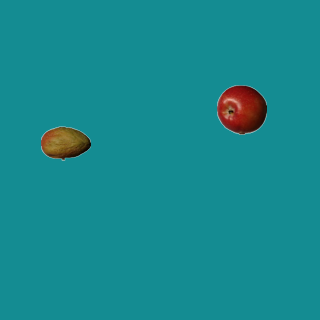Apple Braeburn: (216, 84, 266, 134)
Papaya: (40, 118, 90, 168)
